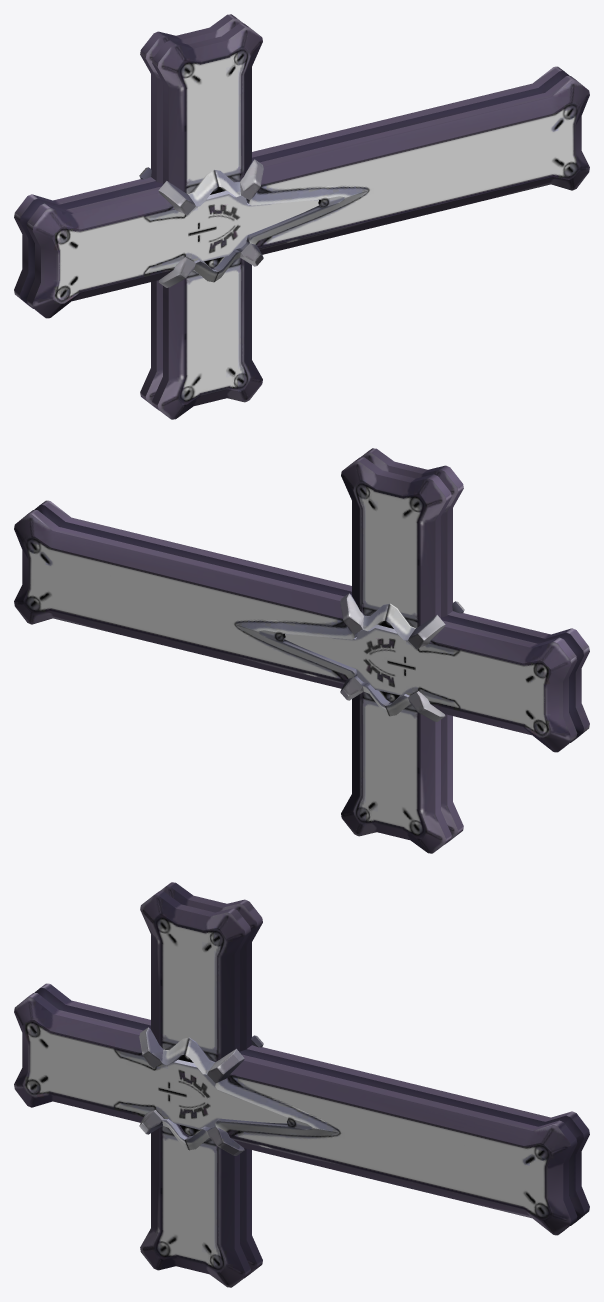
Rendered from Weapon_Cross_T1_156_1.fbx.
The picture shows the model from 3 angles, top to bottom: view 1: azimuth 30°, elevation 25°; view 2: azimuth 150°, elevation 25°; view 3: azimuth 330°, elevation 25°; orthographic projection.
Parts seen in each view (by area): view 1: Cross; view 2: Cross; view 3: Cross.
Part boxes in pixels (x1,y1,x2,y2): Cross: (14, 14, 589, 419); Cross: (14, 448, 589, 853); Cross: (14, 882, 589, 1287).
Size of the model in its own units: 1.53 by 0.9821 by 0.1784.
Materials: 1 (1 with a texture image).
